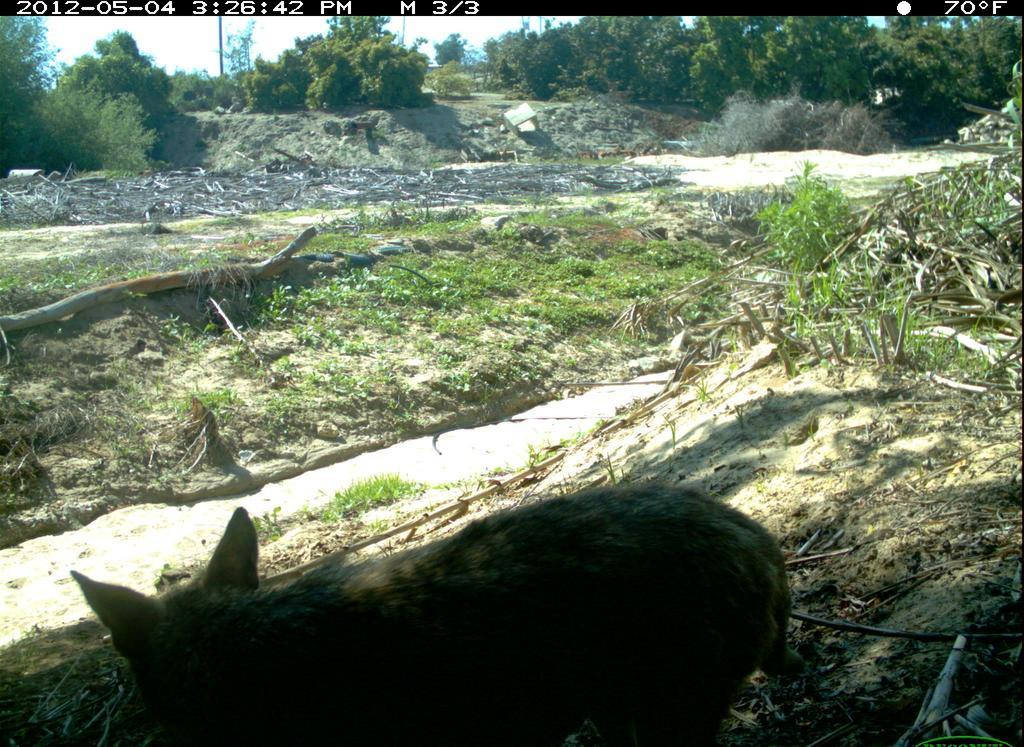coyote: (80, 475, 798, 744)
